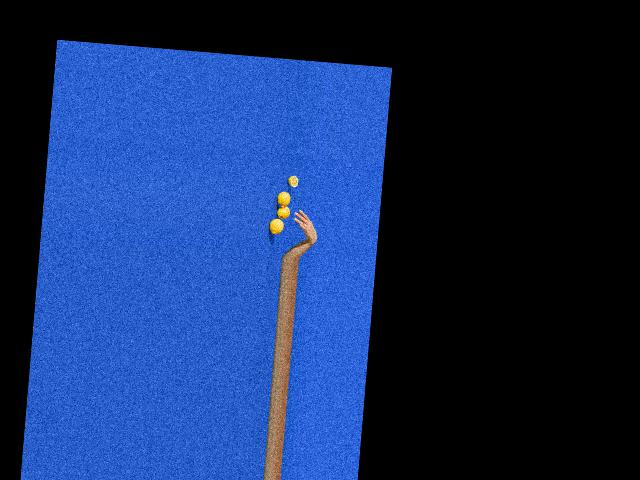lemon: (278, 189, 291, 207)
